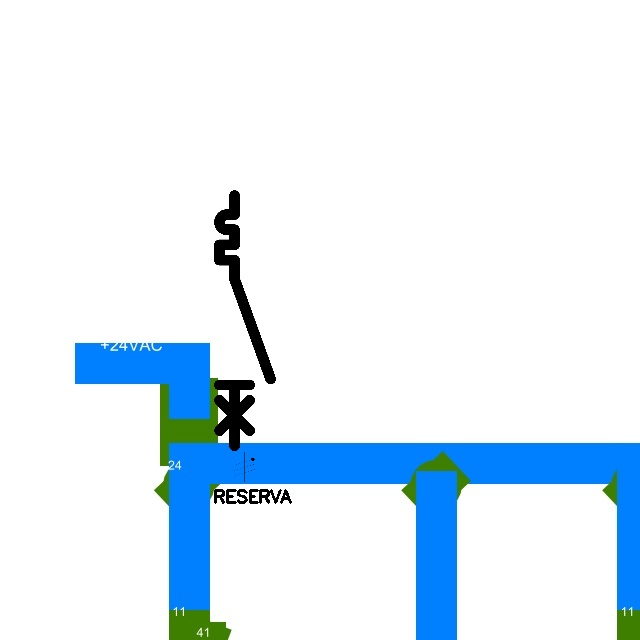interruptor_termomagnetico: (213, 189, 277, 452)
